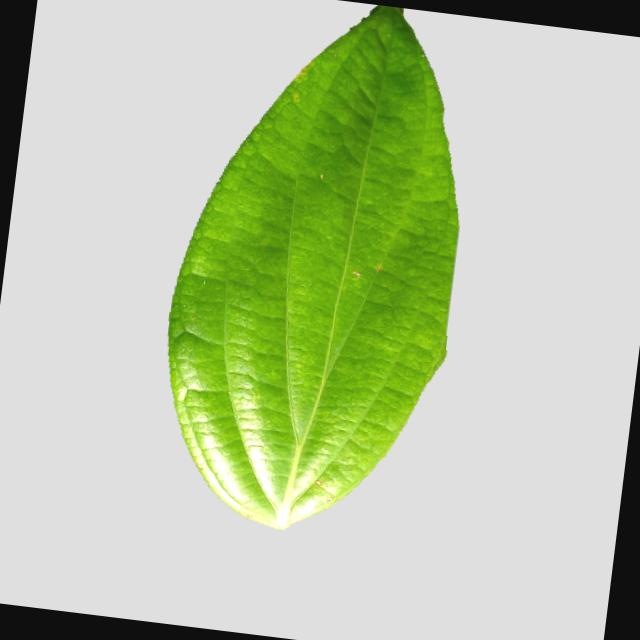healthy: (145, 0, 494, 551)
